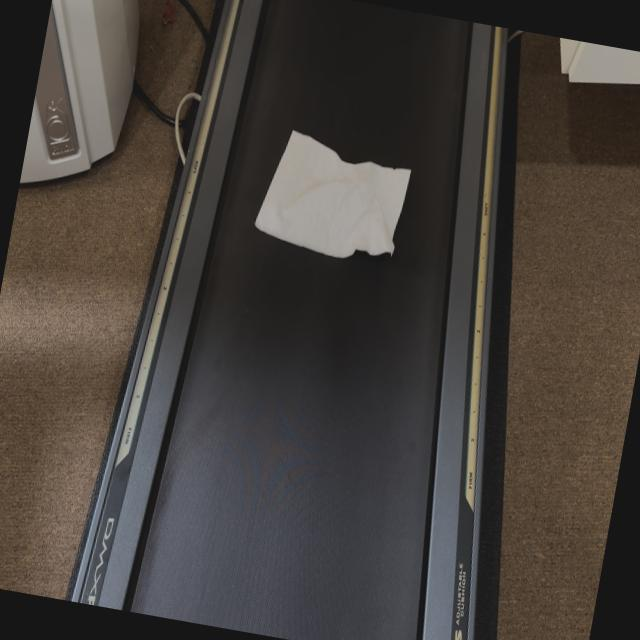Trash: (250, 128, 414, 270)
